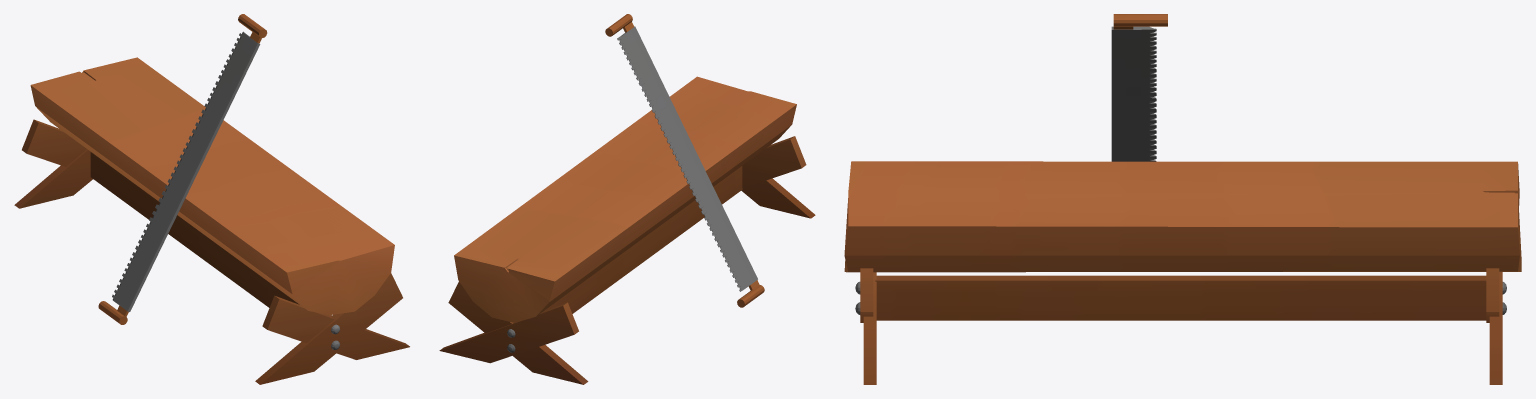
Rendered from logsaw.glb.
3 views of the same model, side by side, from view 1: azimuth 30°, elevation 25°; view 2: azimuth 150°, elevation 25°; view 3: azimuth 270°, elevation 25° (orthographic). The views are drawn at different scales.
Visible parts, largest first — view 1: logSaw; view 2: logSaw; view 3: logSaw.
Boxes of the visible parts, x1,y1,x2,y2 form: logSaw: (14, 14, 409, 384); logSaw: (439, 14, 815, 384); logSaw: (844, 14, 1521, 384).
Size of the model in its own units: 2.52 by 3.23 by 5.83.
1 material, 1 textured.
